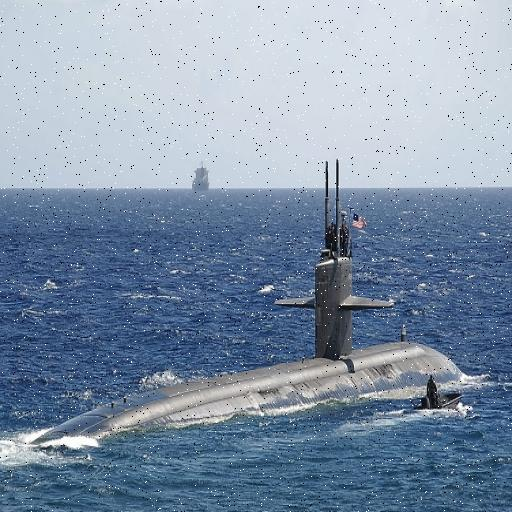submarine: (1, 165, 470, 458)
